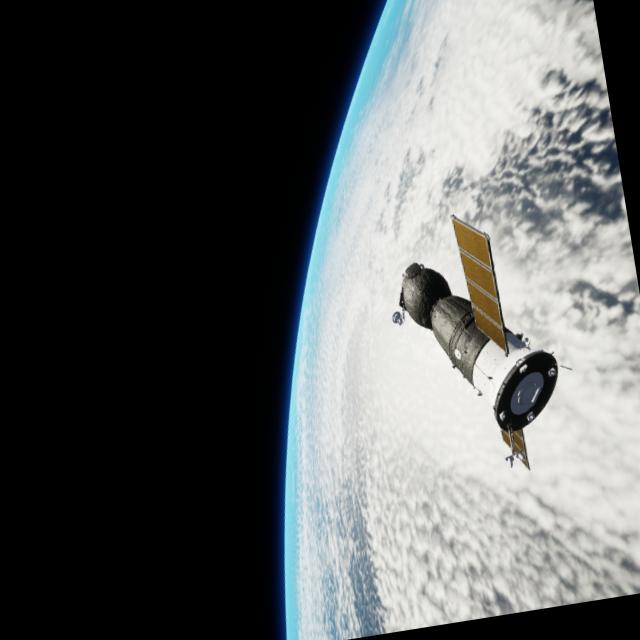Satellites revolving around earth: (185, 0, 640, 640), (378, 200, 580, 490)
